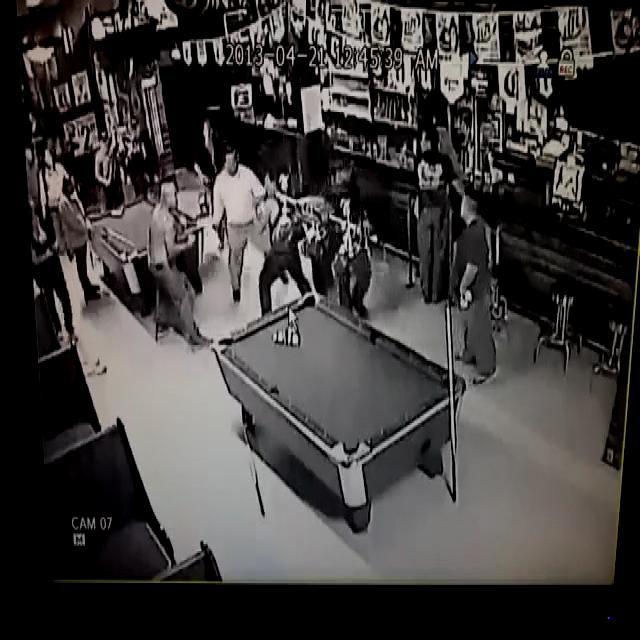fight: (208, 144, 310, 319)
